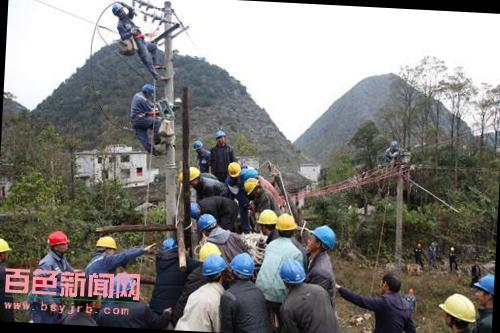no_helmet: (376, 268, 408, 294)
